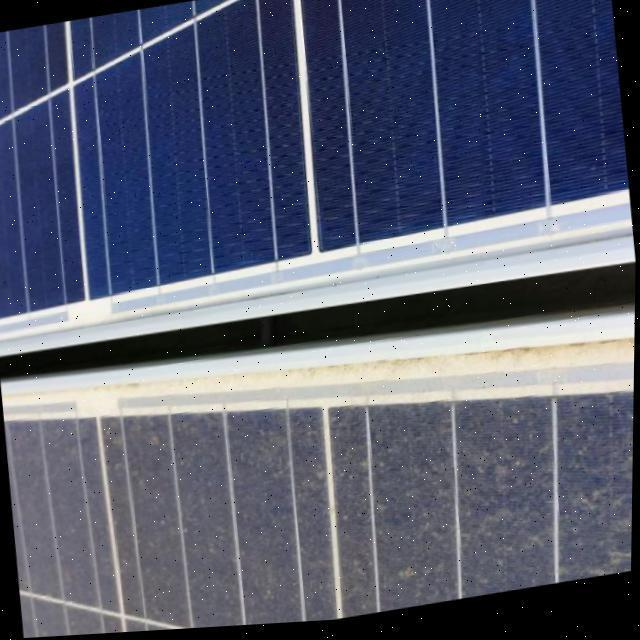Surface Contaminant: (4, 400, 635, 639)
